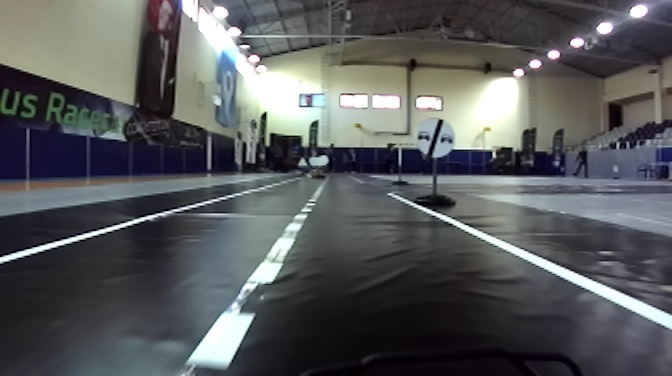sollama_serbest: (413, 116, 454, 160)
